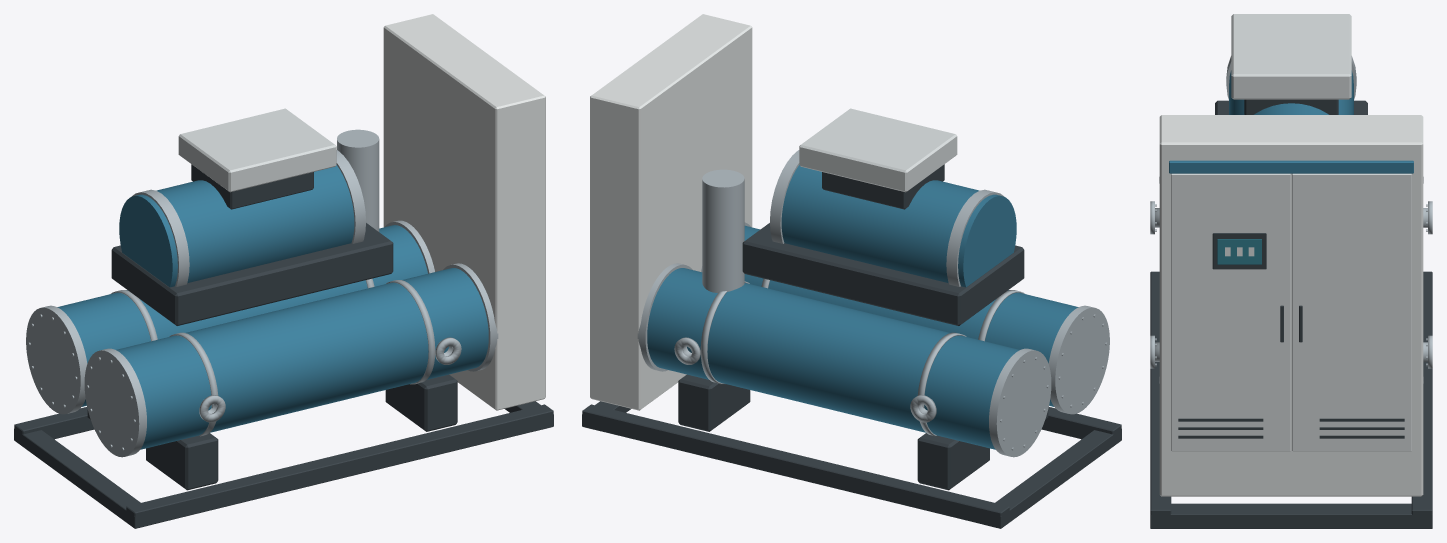
The model's file is SM_Plant_Chiller.glb.
The picture shows the model from 3 angles, left to right: view 1: azimuth 30°, elevation 25°; view 2: azimuth 150°, elevation 25°; view 3: azimuth 270°, elevation 25°; orthographic projection. The views are drawn at different scales.
Visible parts, largest first — view 1: SM_Plant_Chiller; view 2: SM_Plant_Chiller; view 3: SM_Plant_Chiller.
Part boxes in pixels (bbox=[...]): SM_Plant_Chiller: bbox=[14, 14, 553, 528]; SM_Plant_Chiller: bbox=[582, 14, 1121, 528]; SM_Plant_Chiller: bbox=[1150, 14, 1432, 528].
Size of the model in its own units: 2.4 by 1.8 by 1.2.
